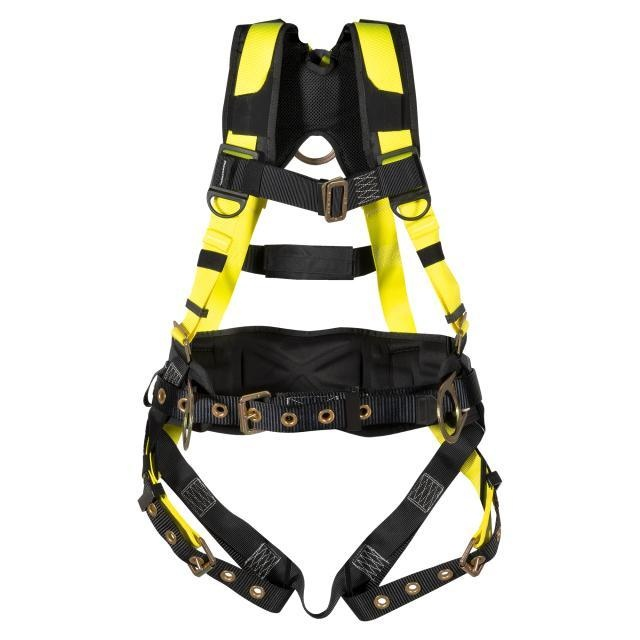Arnes_seguridad: (127, 11, 510, 616)
